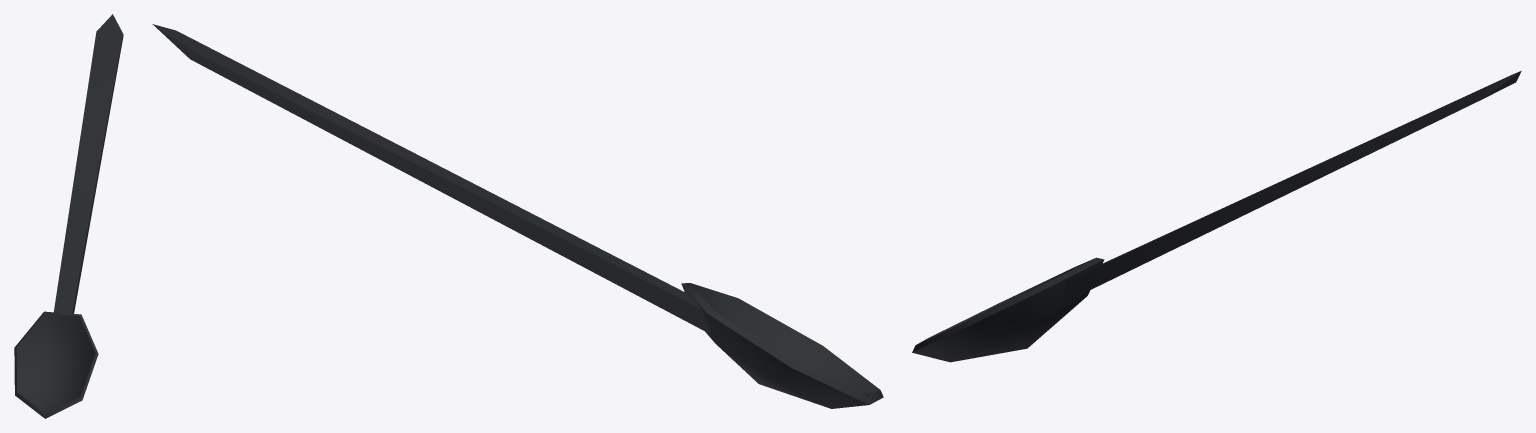
3 views of the same model, side by side, from view 1: azimuth 30°, elevation 25°; view 2: azimuth 150°, elevation 25°; view 3: azimuth 270°, elevation 25° (orthographic). The views are drawn at different scales.
Parts seen in each view (by area): view 1: Cylinder004_Metal_04001_0; view 2: Cylinder004_Metal_04001_0; view 3: Cylinder004_Metal_04001_0.
Part boxes in pixels (box(x1,y1,x2,y2)): Cylinder004_Metal_04001_0: box(14, 14, 123, 418); Cylinder004_Metal_04001_0: box(152, 24, 883, 408); Cylinder004_Metal_04001_0: box(912, 71, 1521, 362).
Size of the model in its own units: 0.3565 by 0.3617 by 0.4114.
Materials: 1 (1 with a texture image).
